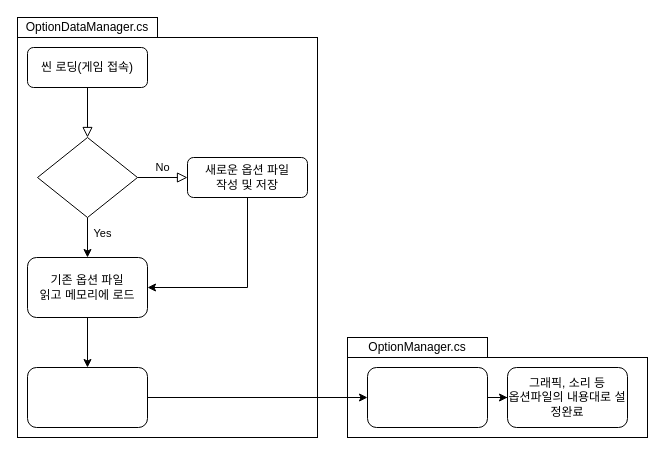
Image size: 665x455. Some labels were removed from this diagram. Each missing label, with the box of its shape:
메뉴(옵션) 레이아웃 값 초기화: (366, 366, 488, 428)
옵션 파일을 해석: (26, 366, 148, 428)
옵션 파일이 존재하는가?: (36, 136, 138, 218)
